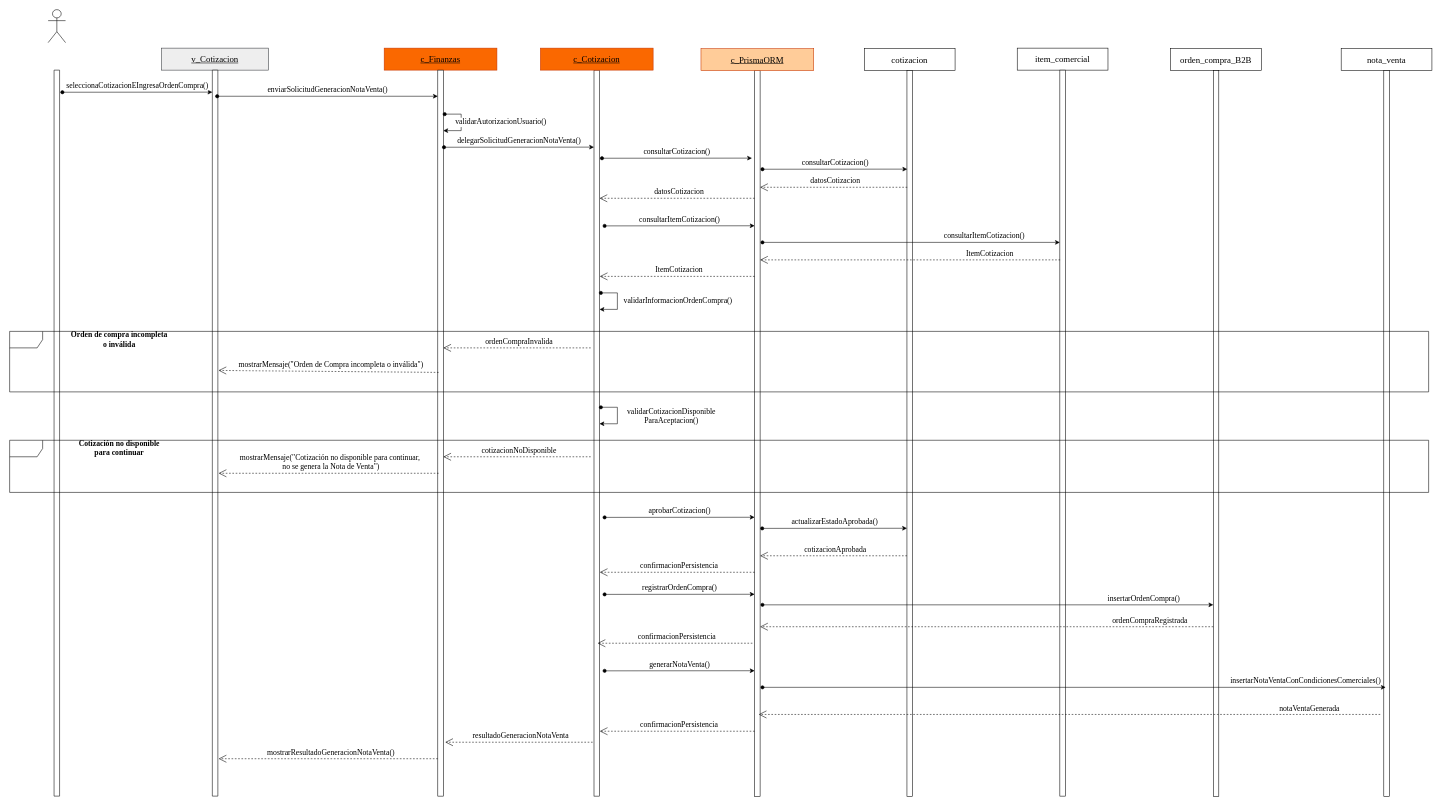
Some shapes in this 1442 by 806 pixel diagram are drawn without their labels. Here are the shapes that lost their labels. From the top down, the box of each, then its label:
(48, 9, 66, 43): Usuario Autorizado Gerencia o Secretaria
(9, 331, 1429, 392): Exc1
(9, 440, 1429, 492): Exc2
